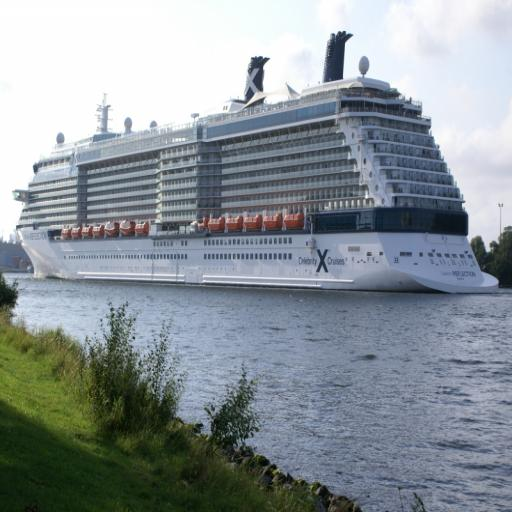cruises: (12, 31, 503, 302)
